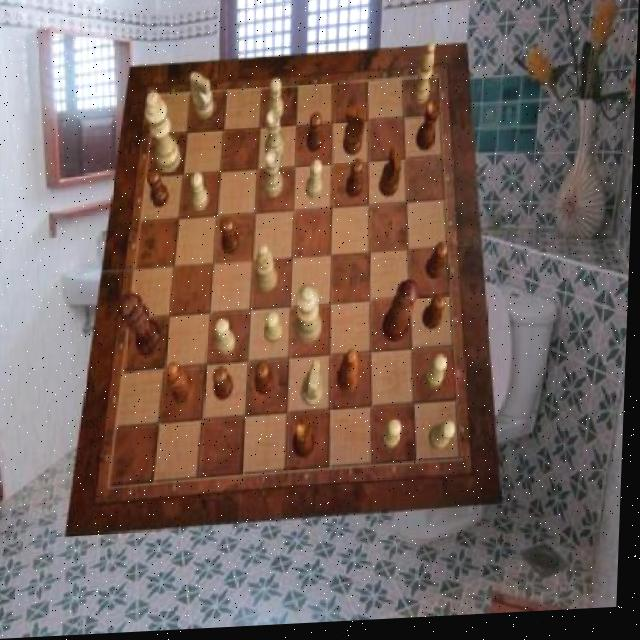bishop: (170, 364, 198, 407), (340, 352, 362, 397)
black-bishop: (120, 291, 168, 358)
black-king: (344, 111, 369, 161), (380, 151, 404, 203)
black-knight: (148, 172, 172, 210), (426, 247, 450, 284), (425, 298, 449, 334), (221, 219, 242, 257), (215, 369, 237, 404), (348, 162, 366, 201), (258, 365, 278, 400), (308, 116, 325, 156)
black-pawn: (385, 284, 422, 348)
black-queen: (418, 105, 442, 157), (295, 423, 319, 464)
black-rook: (412, 47, 437, 110), (257, 245, 281, 295)
white-bishop: (145, 91, 185, 176)
white-king: (190, 74, 216, 123), (303, 363, 327, 410)
white-knight: (432, 425, 460, 455), (217, 321, 239, 358), (428, 360, 450, 395), (192, 174, 211, 213), (269, 82, 286, 124), (308, 163, 326, 202), (385, 423, 406, 455), (267, 314, 287, 347)
white-pawn: (297, 288, 326, 349)
white-queen: (266, 151, 287, 201), (266, 115, 286, 164)
